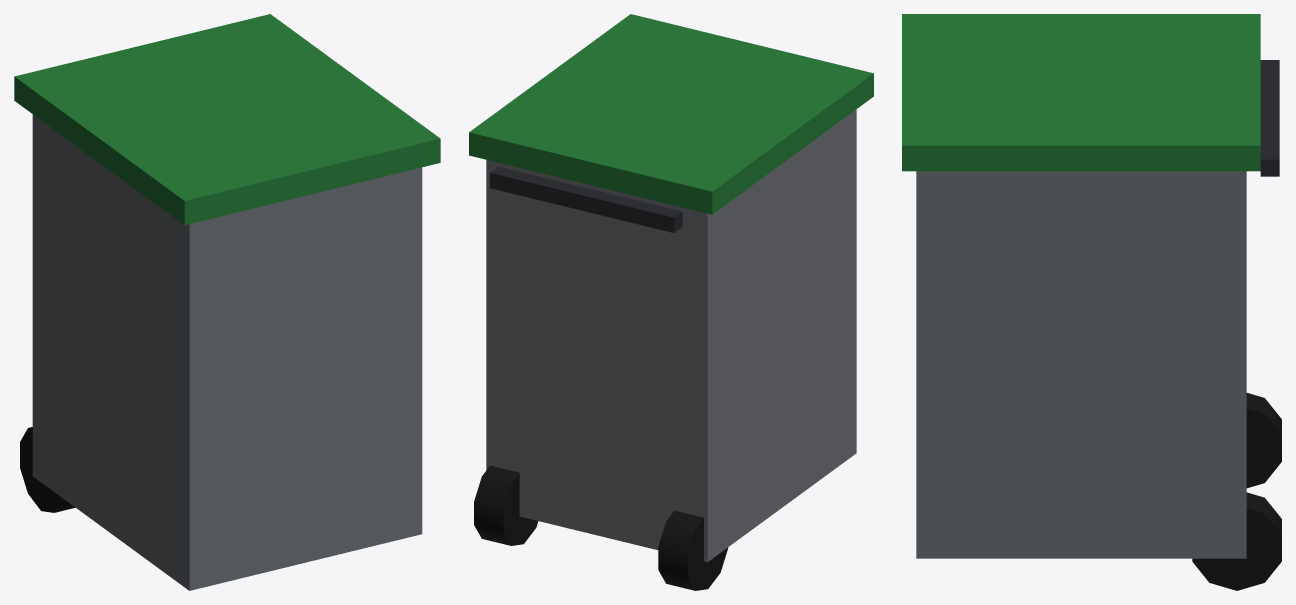
File: sb_wheelie_bin.glb
3 views of the same model, side by side, from view 1: azimuth 30°, elevation 25°; view 2: azimuth 150°, elevation 25°; view 3: azimuth 270°, elevation 25° (orthographic). The views are drawn at different scales.
Visible parts, largest first — view 1: sb_wheelie_bin; view 2: sb_wheelie_bin; view 3: sb_wheelie_bin.
Boxes of the visible parts, left/top/right/bottom form: sb_wheelie_bin: left=14, top=14, right=440, bottom=590; sb_wheelie_bin: left=469, top=14, right=873, bottom=590; sb_wheelie_bin: left=902, top=14, right=1281, bottom=590.
Bounding box in the file's own units: 0.66 × 1.06 × 0.8051.
